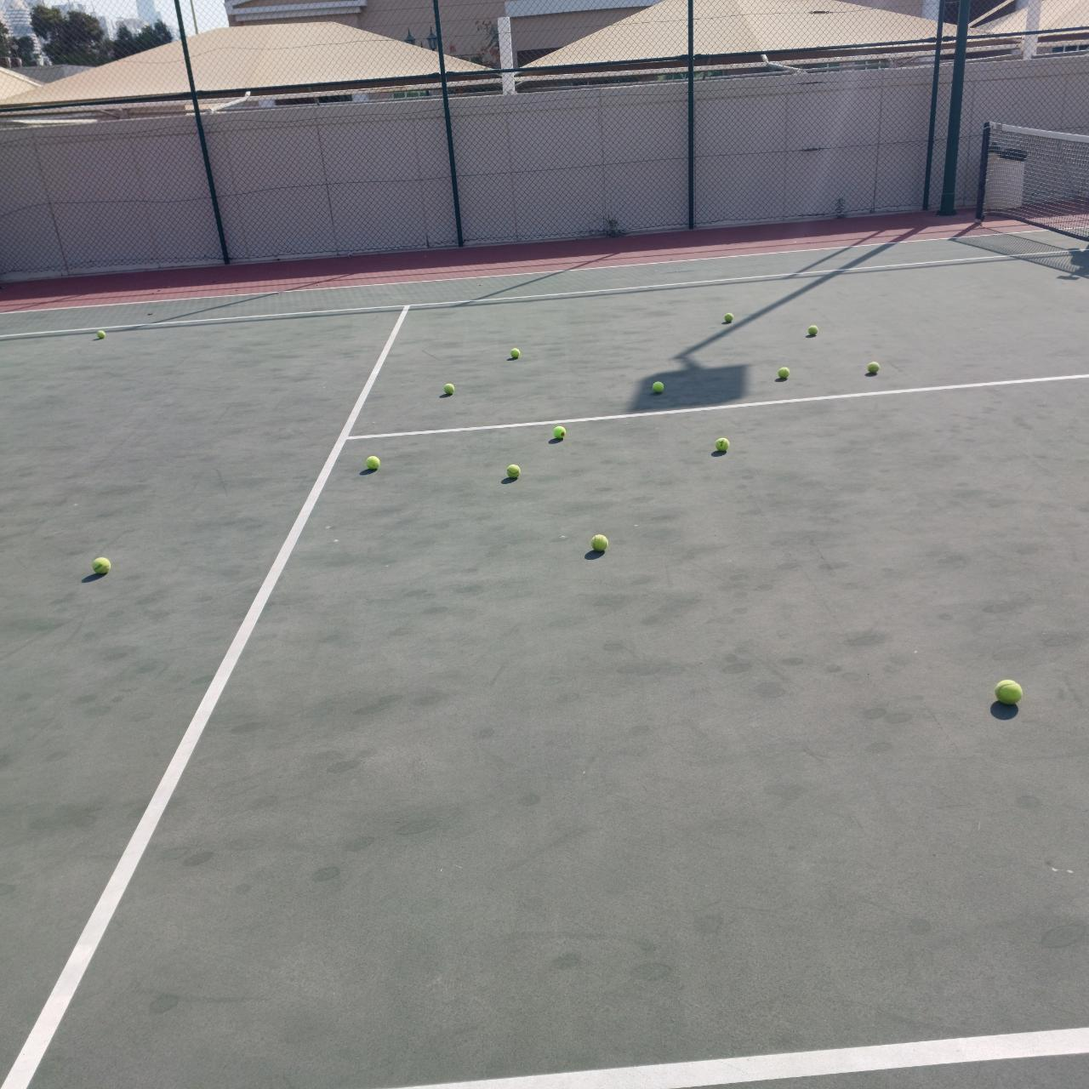tennis-ball: (993, 676, 1023, 705), (90, 553, 111, 575), (589, 532, 607, 552), (713, 435, 729, 453), (363, 453, 379, 470), (505, 462, 520, 480), (550, 424, 565, 440), (864, 360, 879, 375), (775, 365, 790, 380), (650, 379, 664, 394), (507, 345, 520, 360), (805, 323, 818, 337), (442, 381, 454, 395), (723, 312, 734, 324), (96, 330, 105, 339)
